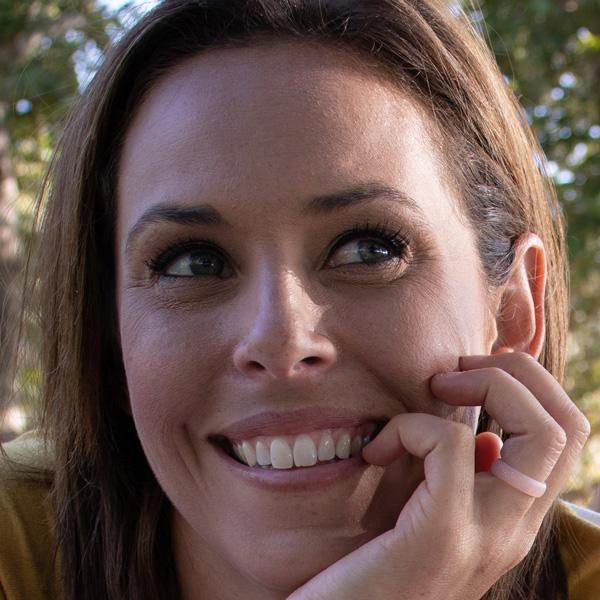Eyes: (306, 218, 421, 291), (142, 229, 246, 300)
